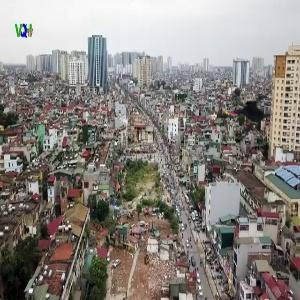drone: (214, 77, 280, 143)
